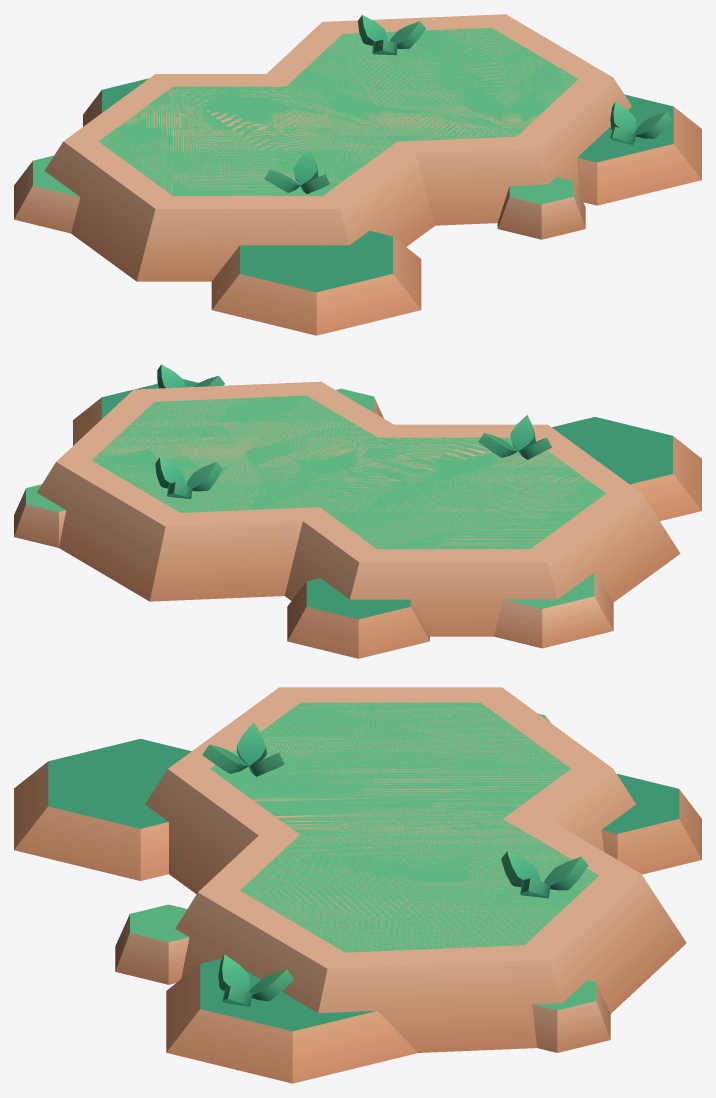
Rendered from rock-flat-grass_lev3.glb.
3 views of the same model, one above another, from view 1: azimuth 30°, elevation 25°; view 2: azimuth 150°, elevation 25°; view 3: azimuth 270°, elevation 25° (orthographic). The views are drawn at different scales.
Parts seen in each view (by area): view 1: rock-flat-grass_lev3; view 2: rock-flat-grass_lev3; view 3: rock-flat-grass_lev3.
Part boxes in pixels (x1,y1,x2,y2): rock-flat-grass_lev3: (14,14,701,335); rock-flat-grass_lev3: (14,364,701,658); rock-flat-grass_lev3: (14,687,701,1083).
Size of the model in its own units: 20.01 by 2.53 by 16.22.
1 material, 1 textured.
